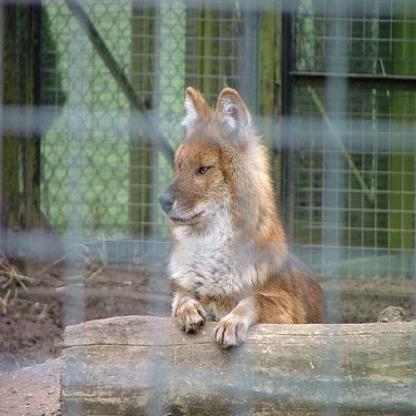dhole: (155, 81, 325, 349)
